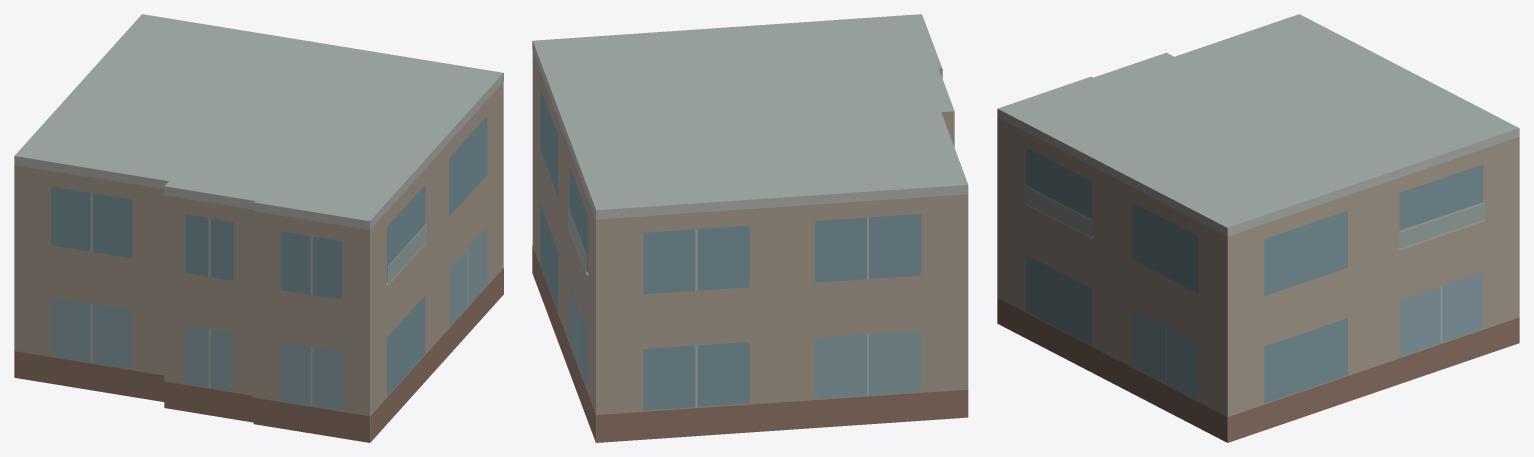
Rendered from survey-upis-32805589.glb.
3 renders of one model, left to right at view 1: azimuth 30°, elevation 25°; view 2: azimuth 150°, elevation 25°; view 3: azimuth 270°, elevation 25°, orthographic. The views are drawn at different scales.
Parts seen in each view (by area): view 1: survey-upis-32805589.tmp; view 2: survey-upis-32805589.tmp; view 3: survey-upis-32805589.tmp.
Part boxes in pixels (x1,y1,x2,y2): survey-upis-32805589.tmp: [14, 14, 503, 442]; survey-upis-32805589.tmp: [532, 14, 968, 442]; survey-upis-32805589.tmp: [997, 14, 1519, 442].
Size of the model in its own units: 13.03 by 6.1 by 13.44.
